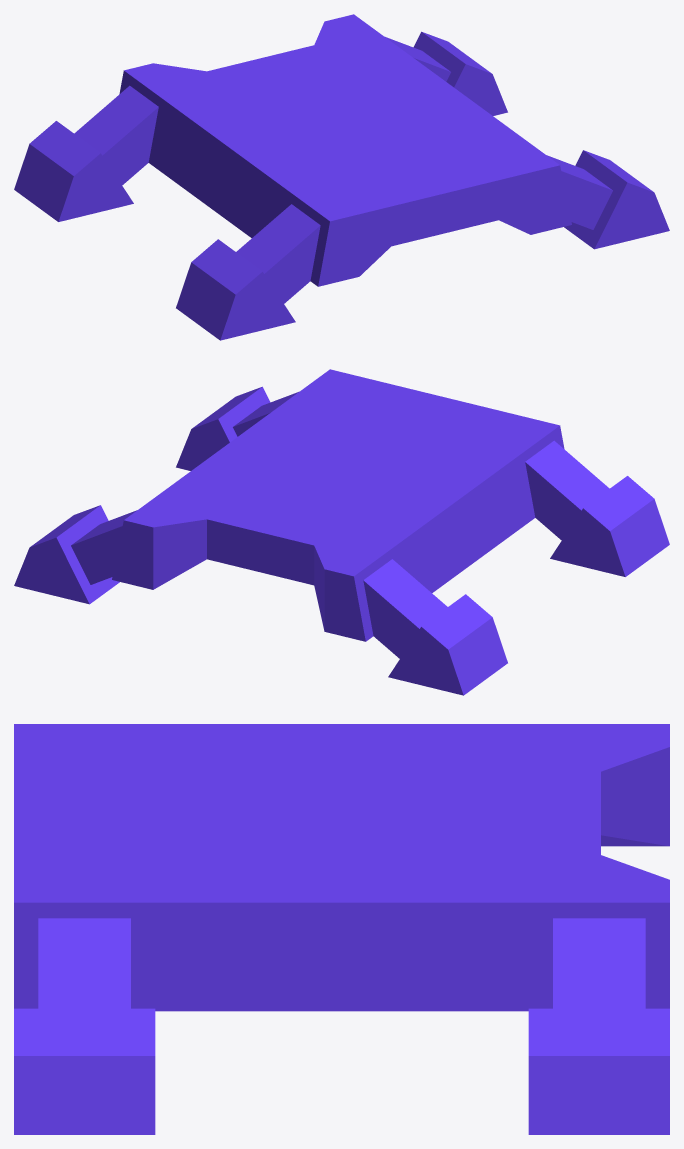
Rendered from ArtilleryHitbox.fbx.
The picture shows the model from 3 angles, top to bottom: view 1: azimuth 30°, elevation 25°; view 2: azimuth 150°, elevation 25°; view 3: azimuth 270°, elevation 25°; orthographic projection. The views are drawn at different scales.
Parts seen in each view (by area): view 1: Cube.076; view 2: Cube.076; view 3: Cube.076.
Part boxes in pixels (bbox=[...]): Cube.076: bbox=[14, 14, 669, 340]; Cube.076: bbox=[14, 369, 669, 695]; Cube.076: bbox=[14, 724, 669, 1134].
Bounding box in the file's own units: 259 × 50.93 × 206.
